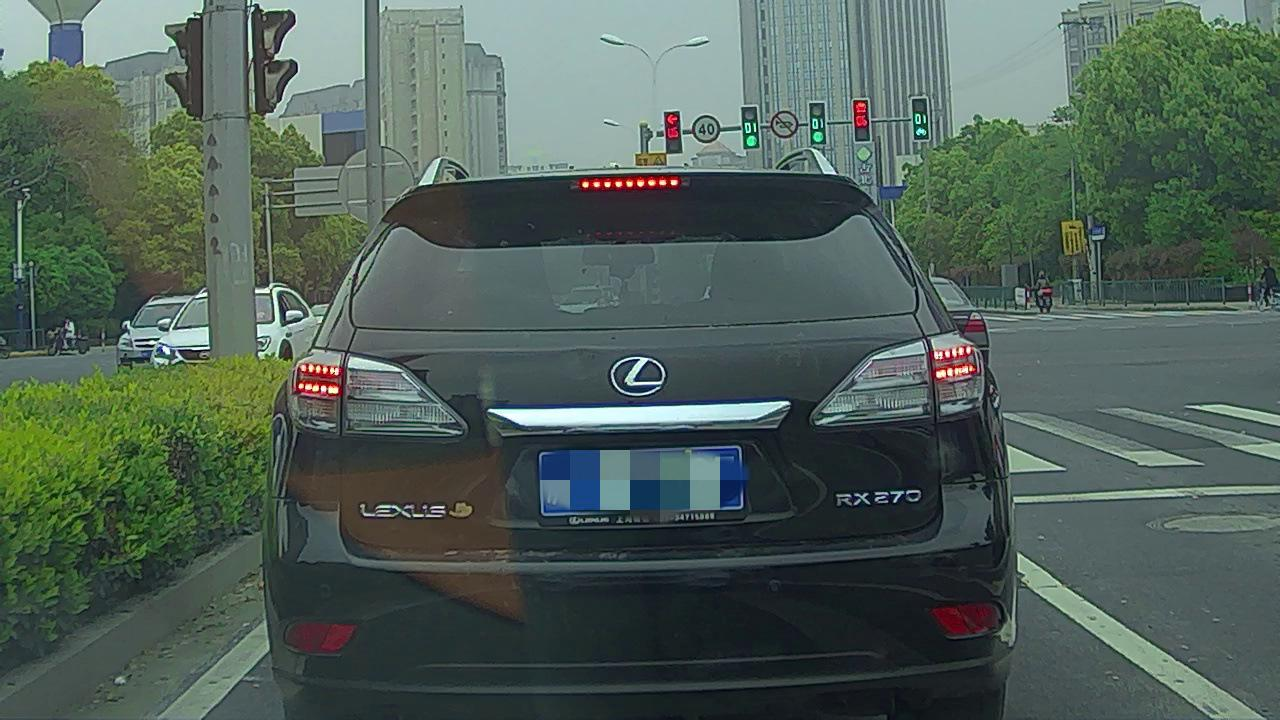traffic_light: (664, 111, 683, 154), (853, 98, 871, 142), (809, 101, 827, 144), (912, 98, 930, 140), (744, 106, 758, 148)
